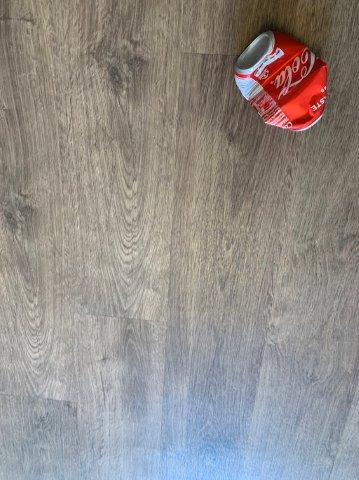kaleng: (235, 31, 327, 130)
